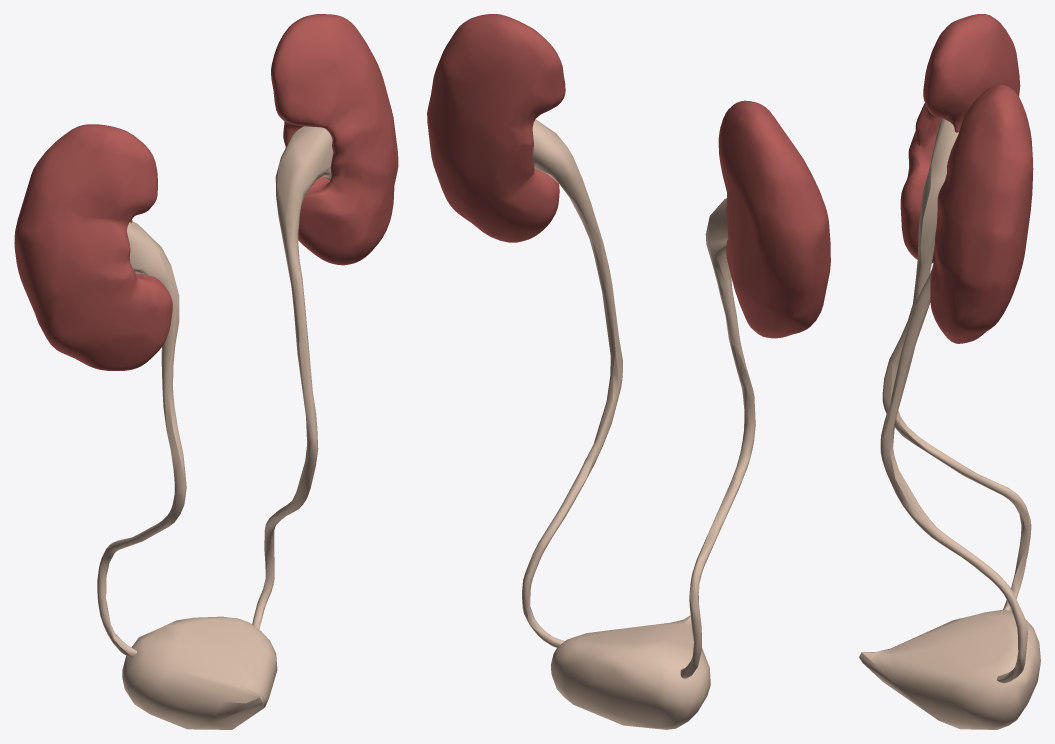
File: urinary.glb
The picture shows the model from 3 angles, left to right: view 1: azimuth 30°, elevation 25°; view 2: azimuth 150°, elevation 25°; view 3: azimuth 270°, elevation 25°; orthographic projection. The views are drawn at different scales.
Visible parts, largest first — view 1: FJ3147 · kidney, FJ3145 · kidney, FJ3149 · urinary bladder, FJ3144 · ureter, FJ3146 · ureter; view 2: FJ3145 · kidney, FJ3147 · kidney, FJ3149 · urinary bladder, FJ3144 · ureter, FJ3146 · ureter; view 3: FJ3145 · kidney, FJ3149 · urinary bladder, FJ3147 · kidney, FJ3146 · ureter, FJ3144 · ureter.
Part boxes in pixels (x1,y1,x2,y2): FJ3147 · kidney: [14, 124, 172, 370]; FJ3145 · kidney: [271, 14, 398, 265]; FJ3149 · urinary bladder: [122, 616, 277, 729]; FJ3144 · ureter: [252, 126, 333, 629]; FJ3146 · ureter: [97, 221, 186, 657]; FJ3145 · kidney: [427, 14, 565, 242]; FJ3147 · kidney: [718, 100, 830, 338]; FJ3149 · urinary bladder: [551, 615, 710, 729]; FJ3144 · ureter: [522, 119, 622, 647]; FJ3146 · ureter: [680, 198, 755, 678]; FJ3145 · kidney: [930, 84, 1033, 343]; FJ3149 · urinary bladder: [859, 609, 1040, 729]; FJ3147 · kidney: [900, 14, 1020, 263]; FJ3146 · ureter: [882, 118, 1031, 611]; FJ3144 · ureter: [880, 269, 1027, 683].
Bounding box in the file's own units: 1.98 × 3.35 × 0.799.
